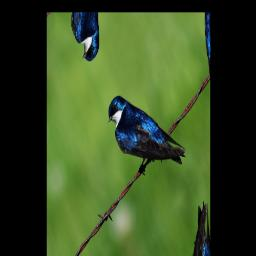Swallow: (103, 52, 189, 215)
